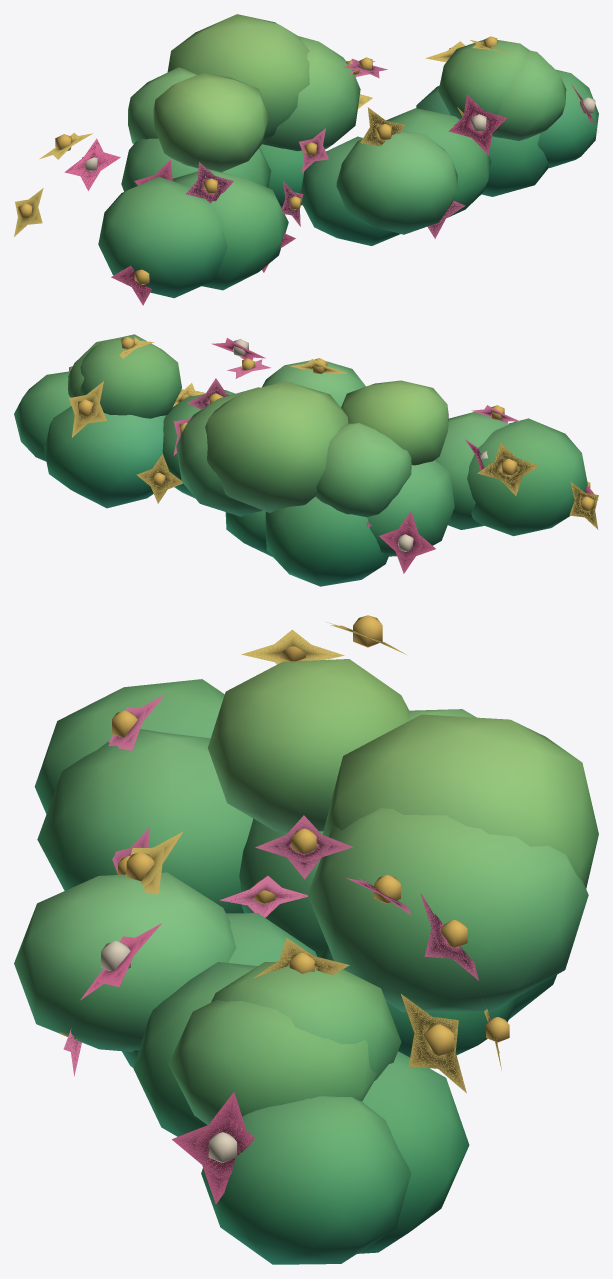
File: verdant_bush_flower_hedge.glb
The picture shows the model from 3 angles, top to bottom: view 1: azimuth 30°, elevation 25°; view 2: azimuth 150°, elevation 25°; view 3: azimuth 270°, elevation 25°; orthographic projection. The views are drawn at different scales.
Visible parts, largest first — view 1: verdant_bush_flower_hedge; view 2: verdant_bush_flower_hedge; view 3: verdant_bush_flower_hedge.
Boxes of the visible parts, left/top/right/bottom form: verdant_bush_flower_hedge: left=14, top=14, right=598, bottom=305; verdant_bush_flower_hedge: left=14, top=334, right=598, bottom=586; verdant_bush_flower_hedge: left=14, top=615, right=598, bottom=1264.
Size of the model in its own units: 4.22 by 1.31 by 2.04.
